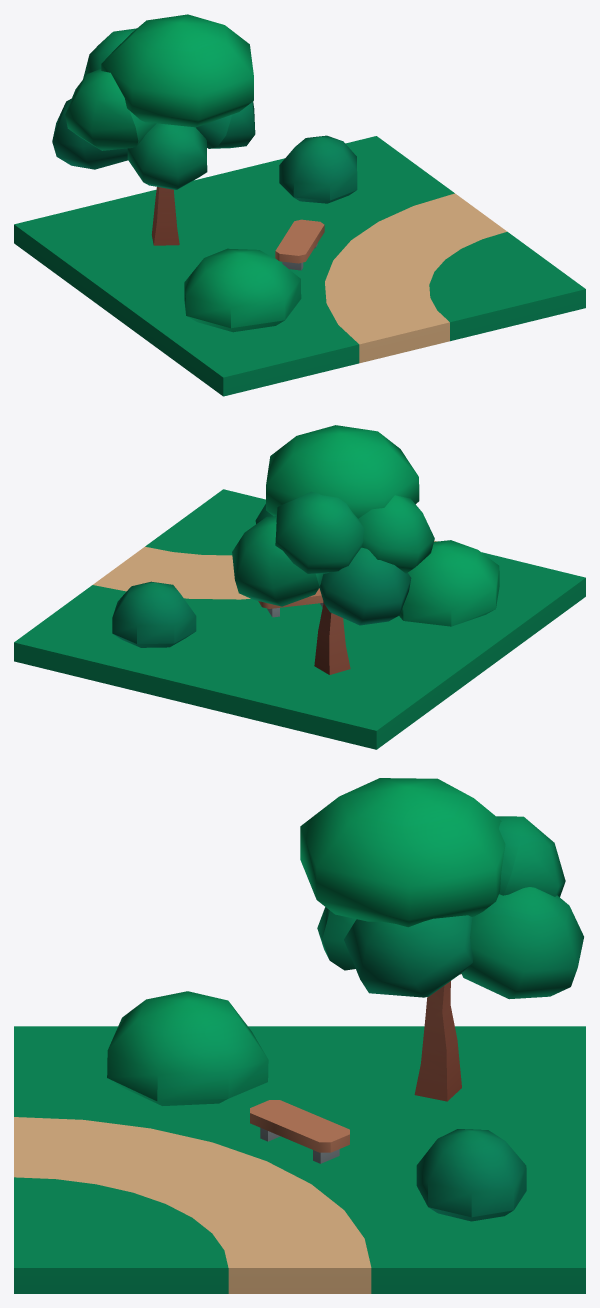
Rendered from park_road_corner_decorated.glb.
The picture shows the model from 3 angles, top to bottom: view 1: azimuth 30°, elevation 25°; view 2: azimuth 150°, elevation 25°; view 3: azimuth 270°, elevation 25°; orthographic projection. The views are drawn at different scales.
Parts seen in each view (by area): view 1: park_road_corner_decorated; view 2: park_road_corner_decorated; view 3: park_road_corner_decorated.
Boxes of the visible parts, x1,y1,x2,y2 form: park_road_corner_decorated: [14, 14, 585, 396]; park_road_corner_decorated: [14, 425, 585, 749]; park_road_corner_decorated: [14, 778, 585, 1293].
Bounding box in the file's own units: 2 × 1.28 × 2.
1 material, 1 textured.
